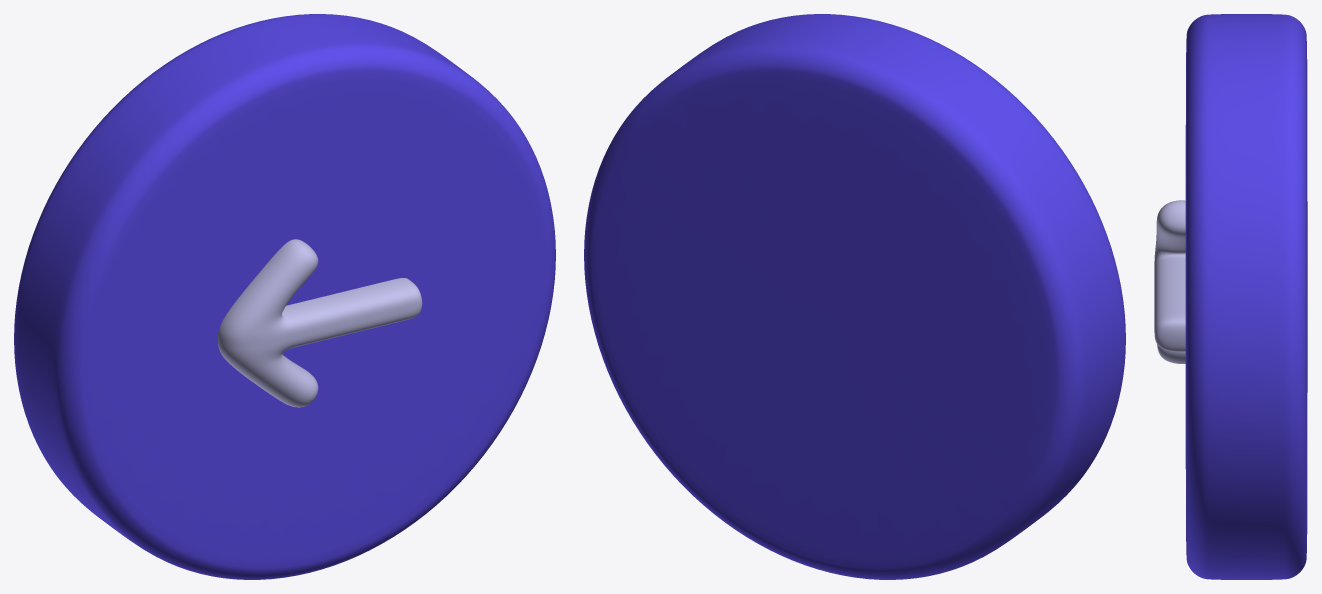
The model's file is go-back-animated-3d-icon-1693695403739.glb.
3 views of the same model, side by side, from view 1: azimuth 30°, elevation 25°; view 2: azimuth 150°, elevation 25°; view 3: azimuth 270°, elevation 25° (orthographic).
Parts seen in each view (by area): view 1: Base.011, Arrow Base.009; view 2: Base.011; view 3: Base.011, Arrow Base.009.
Part boxes in pixels (left/top/right/bottom): Base.011: left=14, top=14, right=555, bottom=579; Arrow Base.009: left=218, top=239, right=422, bottom=407; Base.011: left=584, top=14, right=1125, bottom=579; Base.011: left=1185, top=14, right=1307, bottom=579; Arrow Base.009: left=1154, top=200, right=1185, bottom=363.
Bounding box in the file's own units: 1.99 × 1.99 × 0.5376.
